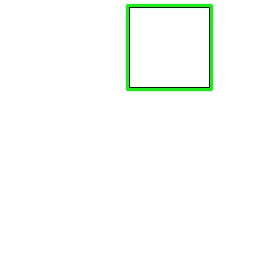line_segment: (126, 4, 213, 91)
